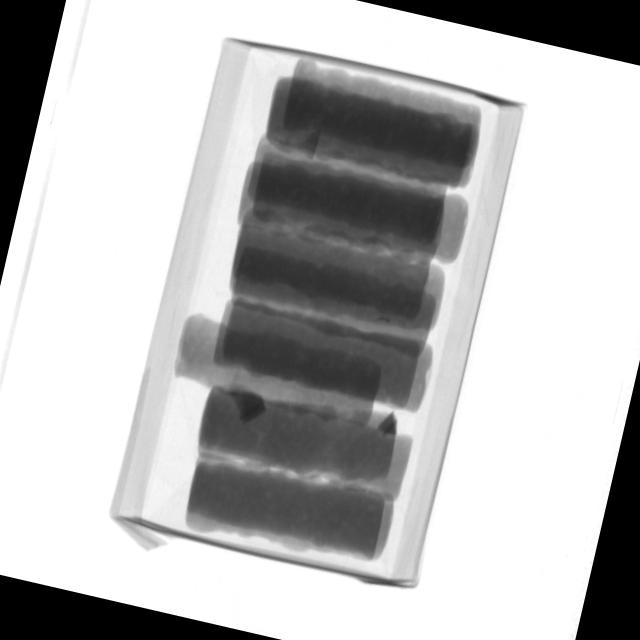ym: (227, 389, 271, 428), (377, 412, 402, 441), (299, 132, 324, 160)
